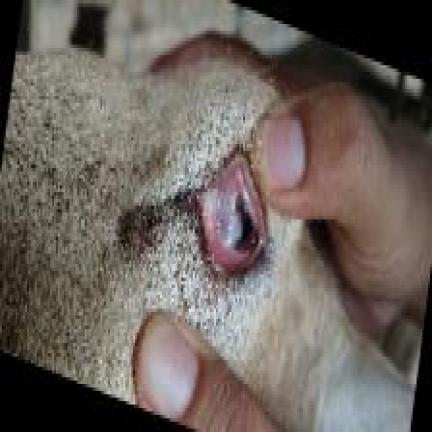goat-eye-anemia-22222222: (199, 158, 260, 271)
